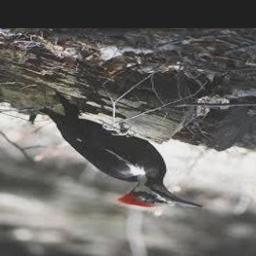Woodpecker: (40, 95, 202, 210)
